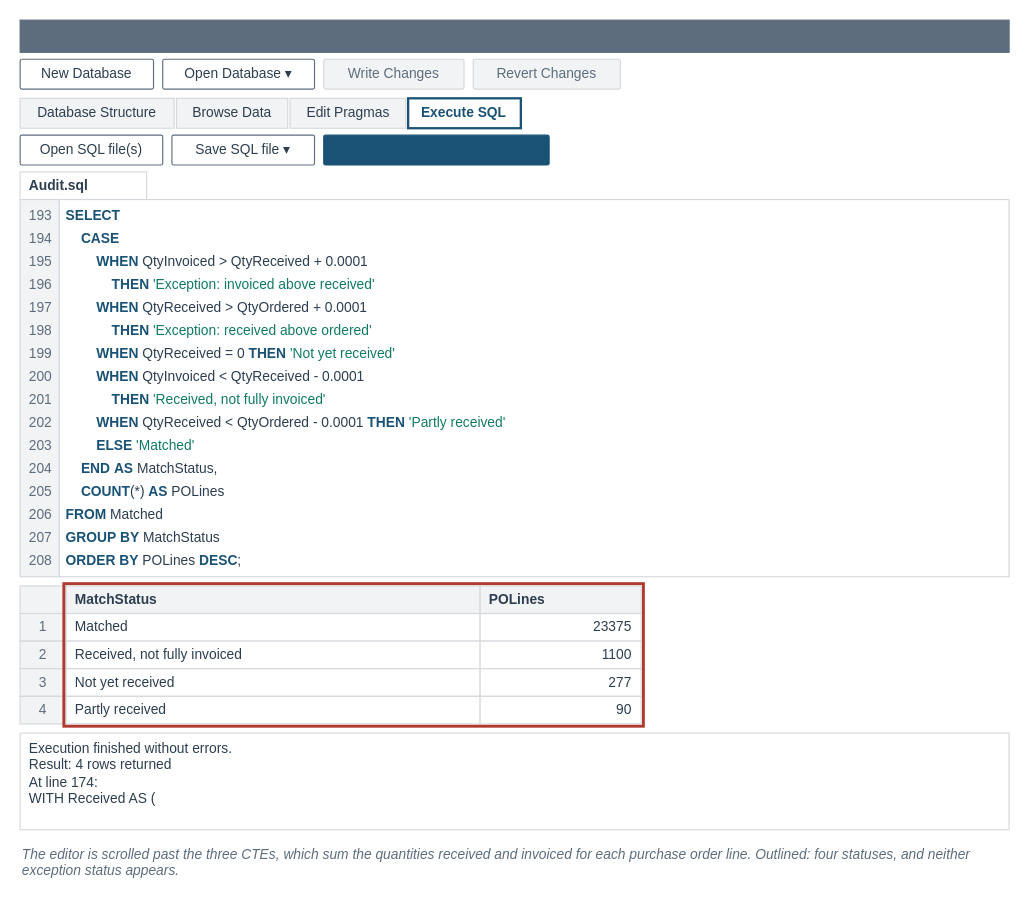
The diagram is 1029 pixels wide and 907 high, and some of its shapes have lost their labels. The shapes that lost their labels are listed below. From the top down, each one's centre as x and y in pixels, then its label:
the point at 514,35: DB Browser for SQLite - C:\Users\you\Documents\CharlesRiver_Work.sqlite
the point at 436,149: ▶ Execute all/selected SQL
